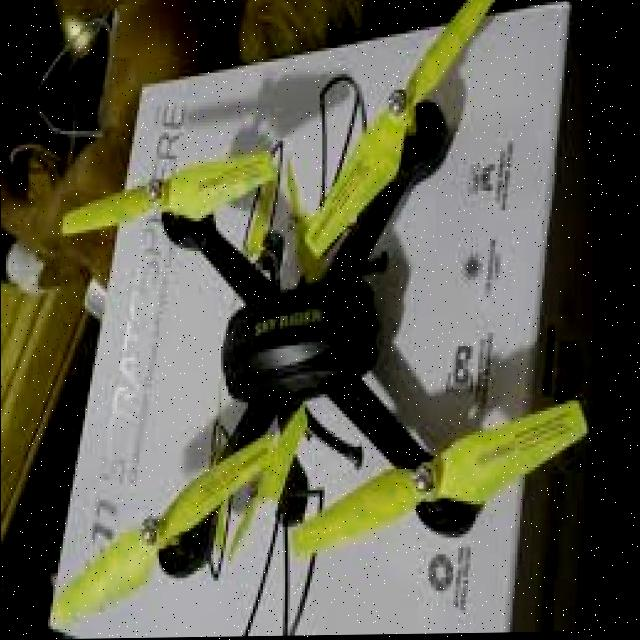drone: (44, 0, 560, 639)
